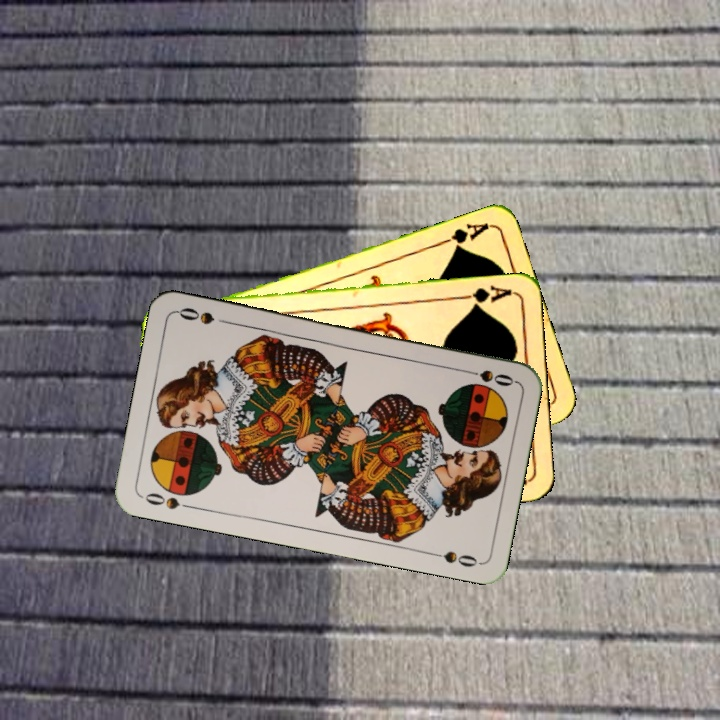GA: (435, 218, 492, 253), (455, 282, 515, 311)
SO: (458, 365, 517, 389), (138, 488, 197, 512)
